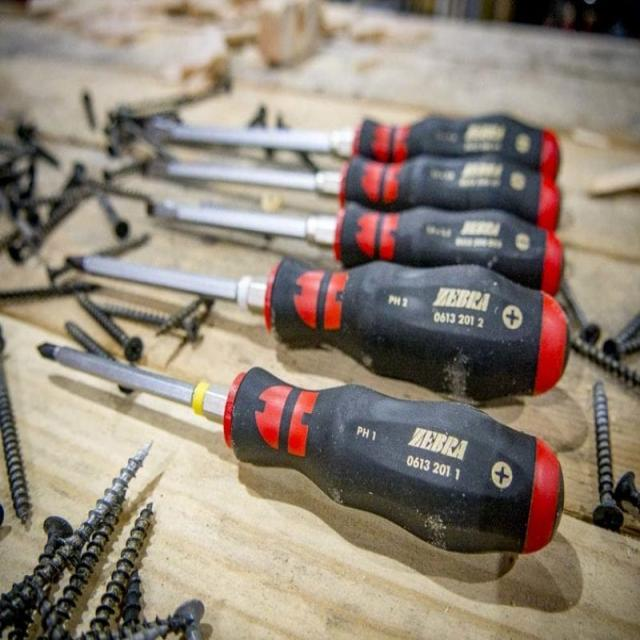screwdriver: (34, 334, 568, 556), (63, 252, 574, 402), (143, 200, 564, 298), (142, 154, 562, 242), (147, 110, 565, 178)
